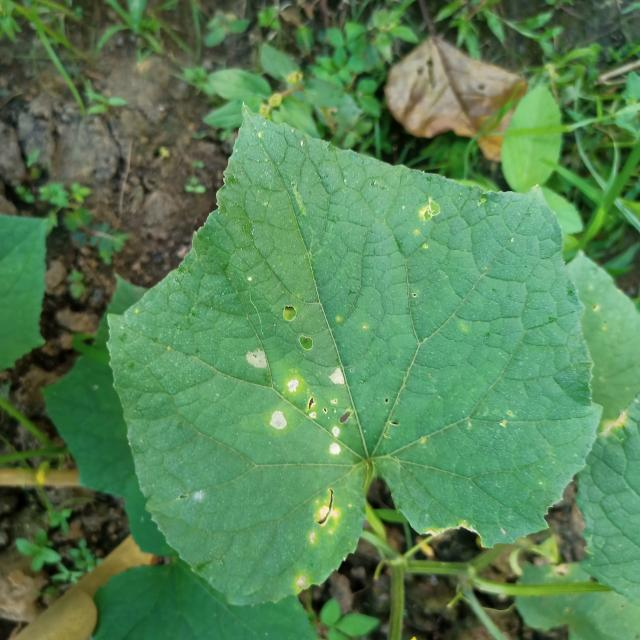disease_cucumber: (232, 334, 361, 468)
